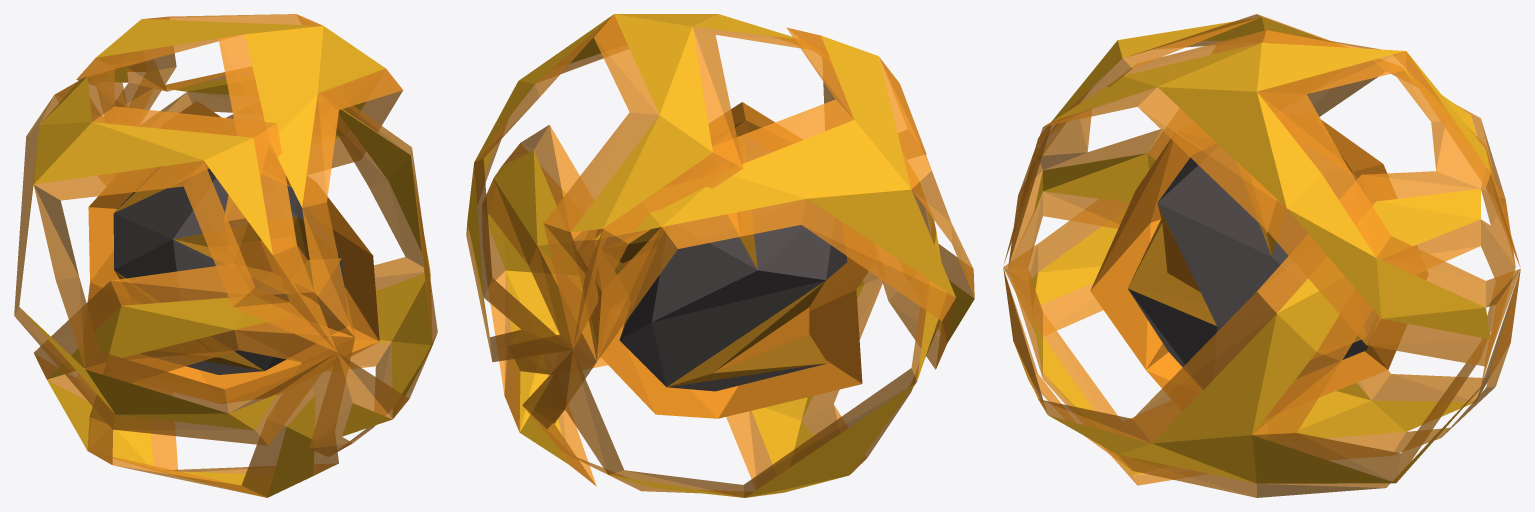
The model's file is blob_mage_projectile.glb.
The picture shows the model from 3 angles, left to right: view 1: azimuth 30°, elevation 25°; view 2: azimuth 150°, elevation 25°; view 3: azimuth 270°, elevation 25°; orthographic projection. The views are drawn at different scales.
Bounding box in the file's own units: 104 × 101 × 104.
2 materials, 2 textured.
